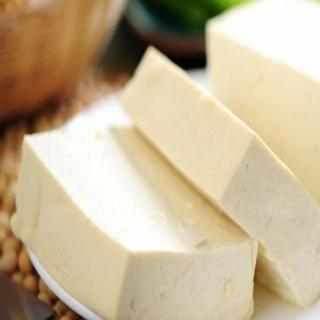Tahu: (14, 7, 307, 306)
